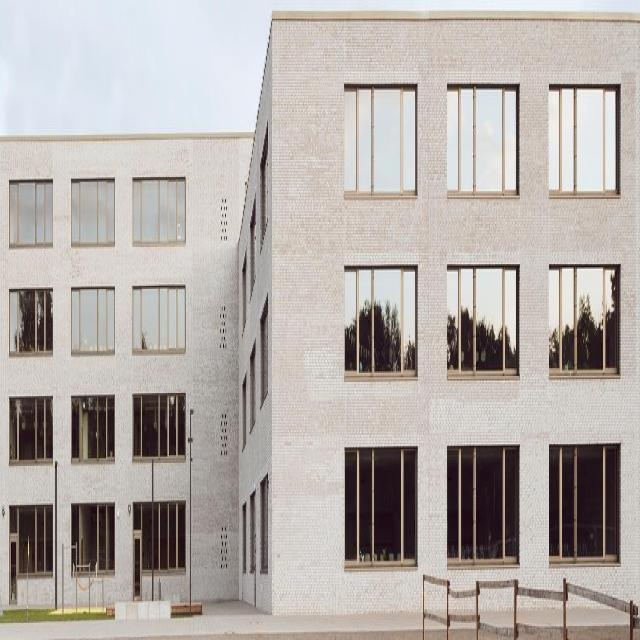door: (133, 529, 142, 601), (9, 533, 17, 607)
wall: (0, 17, 640, 622)
windows: (547, 446, 616, 567), (444, 455, 518, 567), (344, 452, 414, 568), (446, 265, 517, 379), (343, 87, 414, 195), (344, 270, 417, 374), (446, 90, 516, 196), (548, 93, 617, 196), (546, 270, 615, 372), (132, 503, 184, 578), (131, 290, 184, 359), (131, 395, 184, 462), (131, 183, 184, 250), (70, 503, 114, 577), (69, 396, 114, 466), (7, 183, 52, 253), (6, 293, 51, 361), (7, 399, 52, 466), (10, 508, 54, 576), (70, 184, 114, 252), (69, 293, 114, 358)
